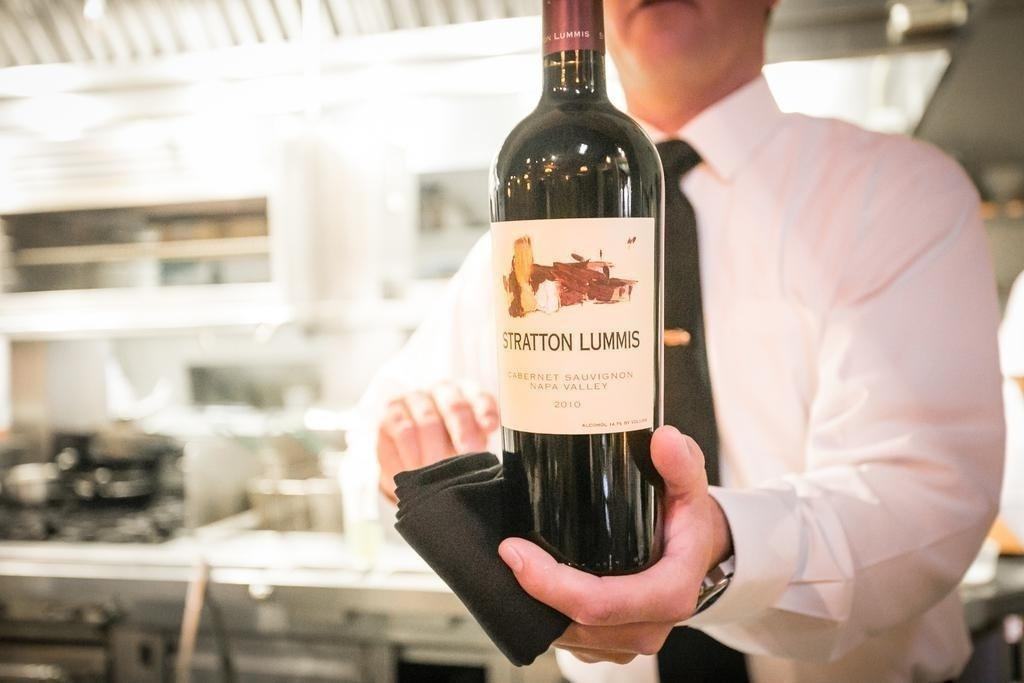bottle-glass: (487, 0, 669, 572)
